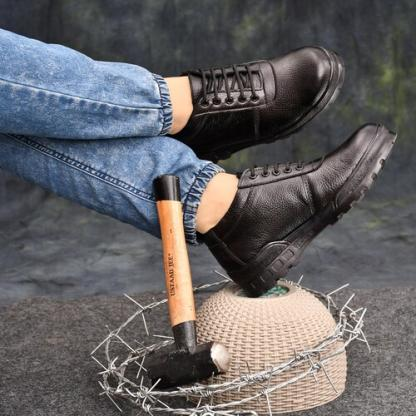bota: (198, 119, 403, 301), (168, 42, 350, 164)
